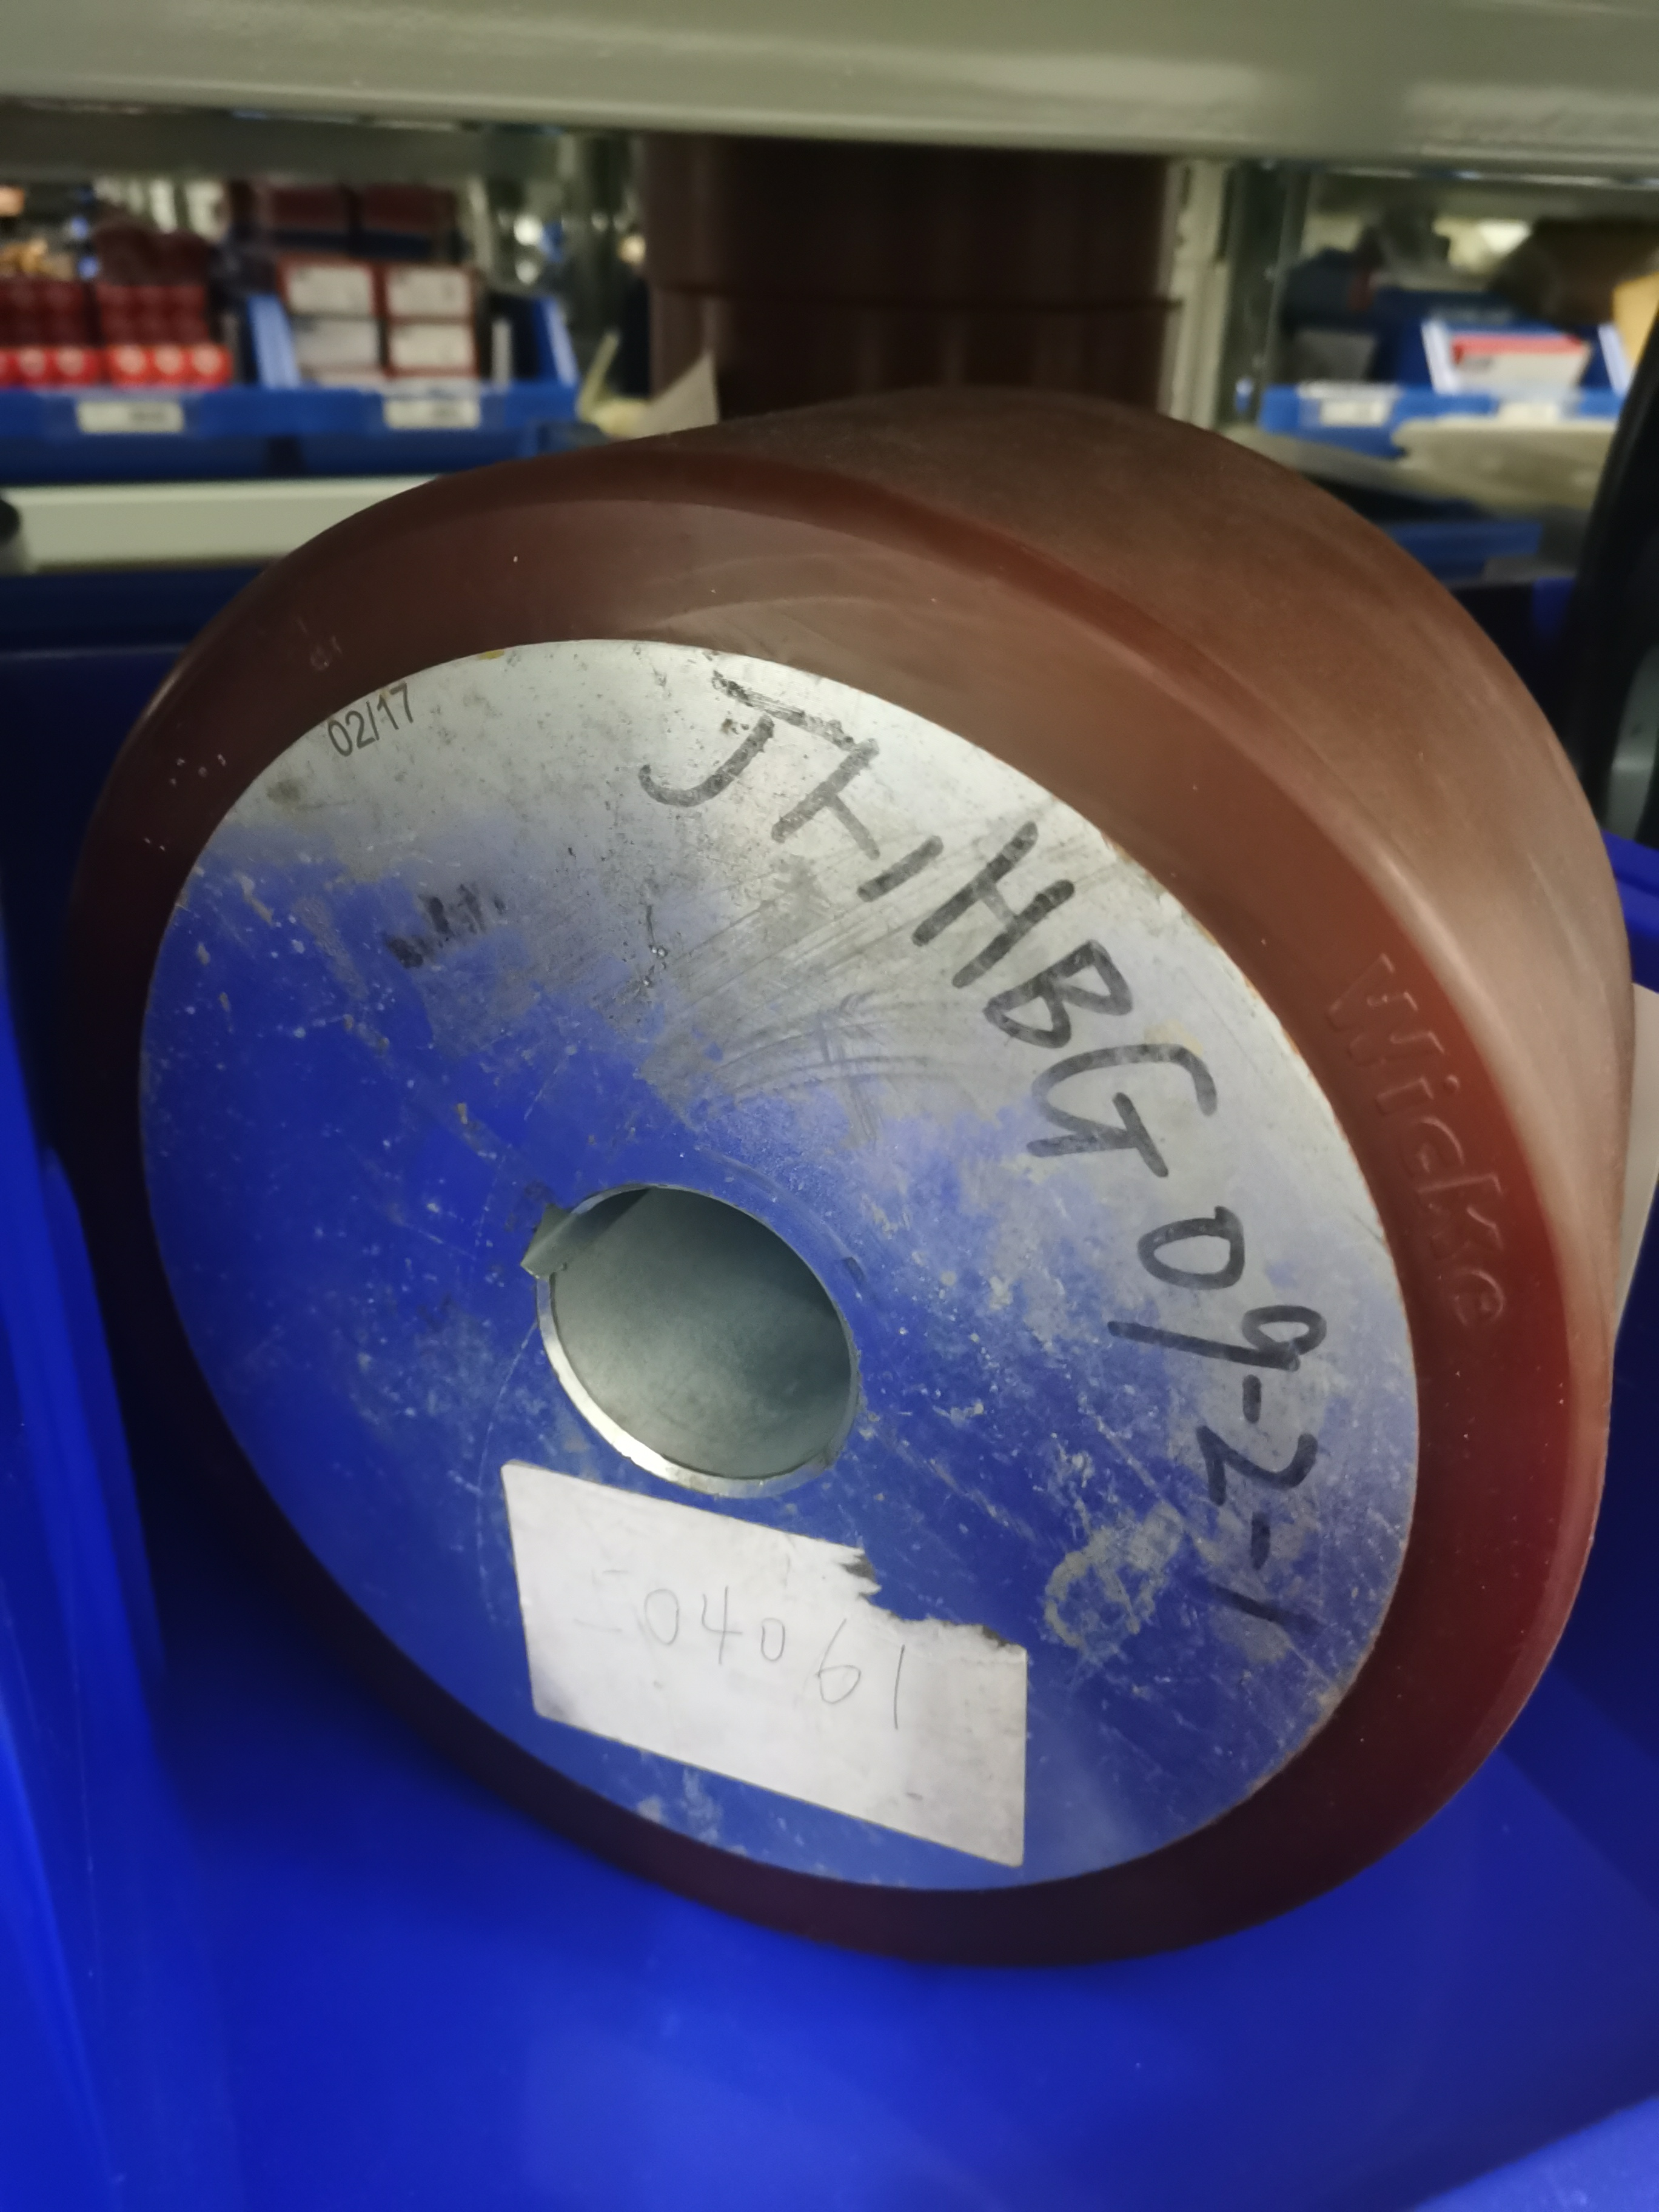good_wheel: (110, 260, 1595, 2078)
